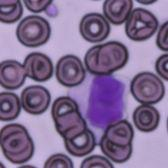M: (70, 72, 132, 130)
